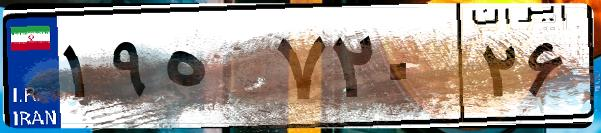0: (385, 28, 445, 110)
1: (57, 26, 110, 100)
2: (330, 28, 385, 110), (475, 38, 525, 113)
6: (525, 38, 570, 115)
7: (270, 28, 330, 110)
9: (110, 28, 158, 98)
ه: (158, 20, 270, 120)
